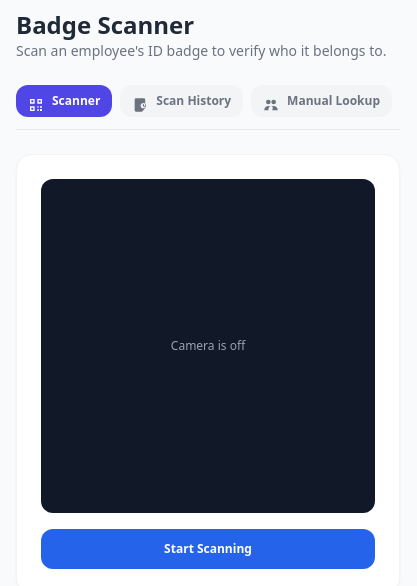
Scenario: BadgeScannerView › the Manual Lookup tab filters allUsers by name as a camera-free fallback
Step 1. Click the tab "Manual Lookup" → (322, 101), box [251,85,392,117]
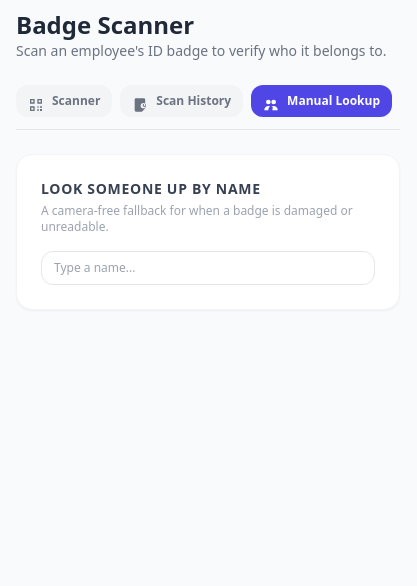
Step 2. Type "Budi" into the field with placeholder "Type a name..." → (208, 268), box [41,251,375,285]
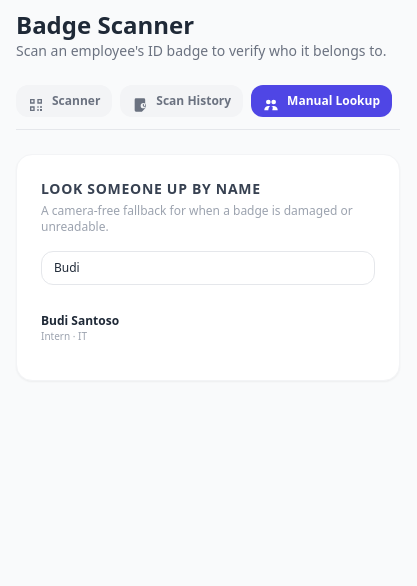
expect the text "Budi Santoso" is shown: met, box [41,312,119,329]
